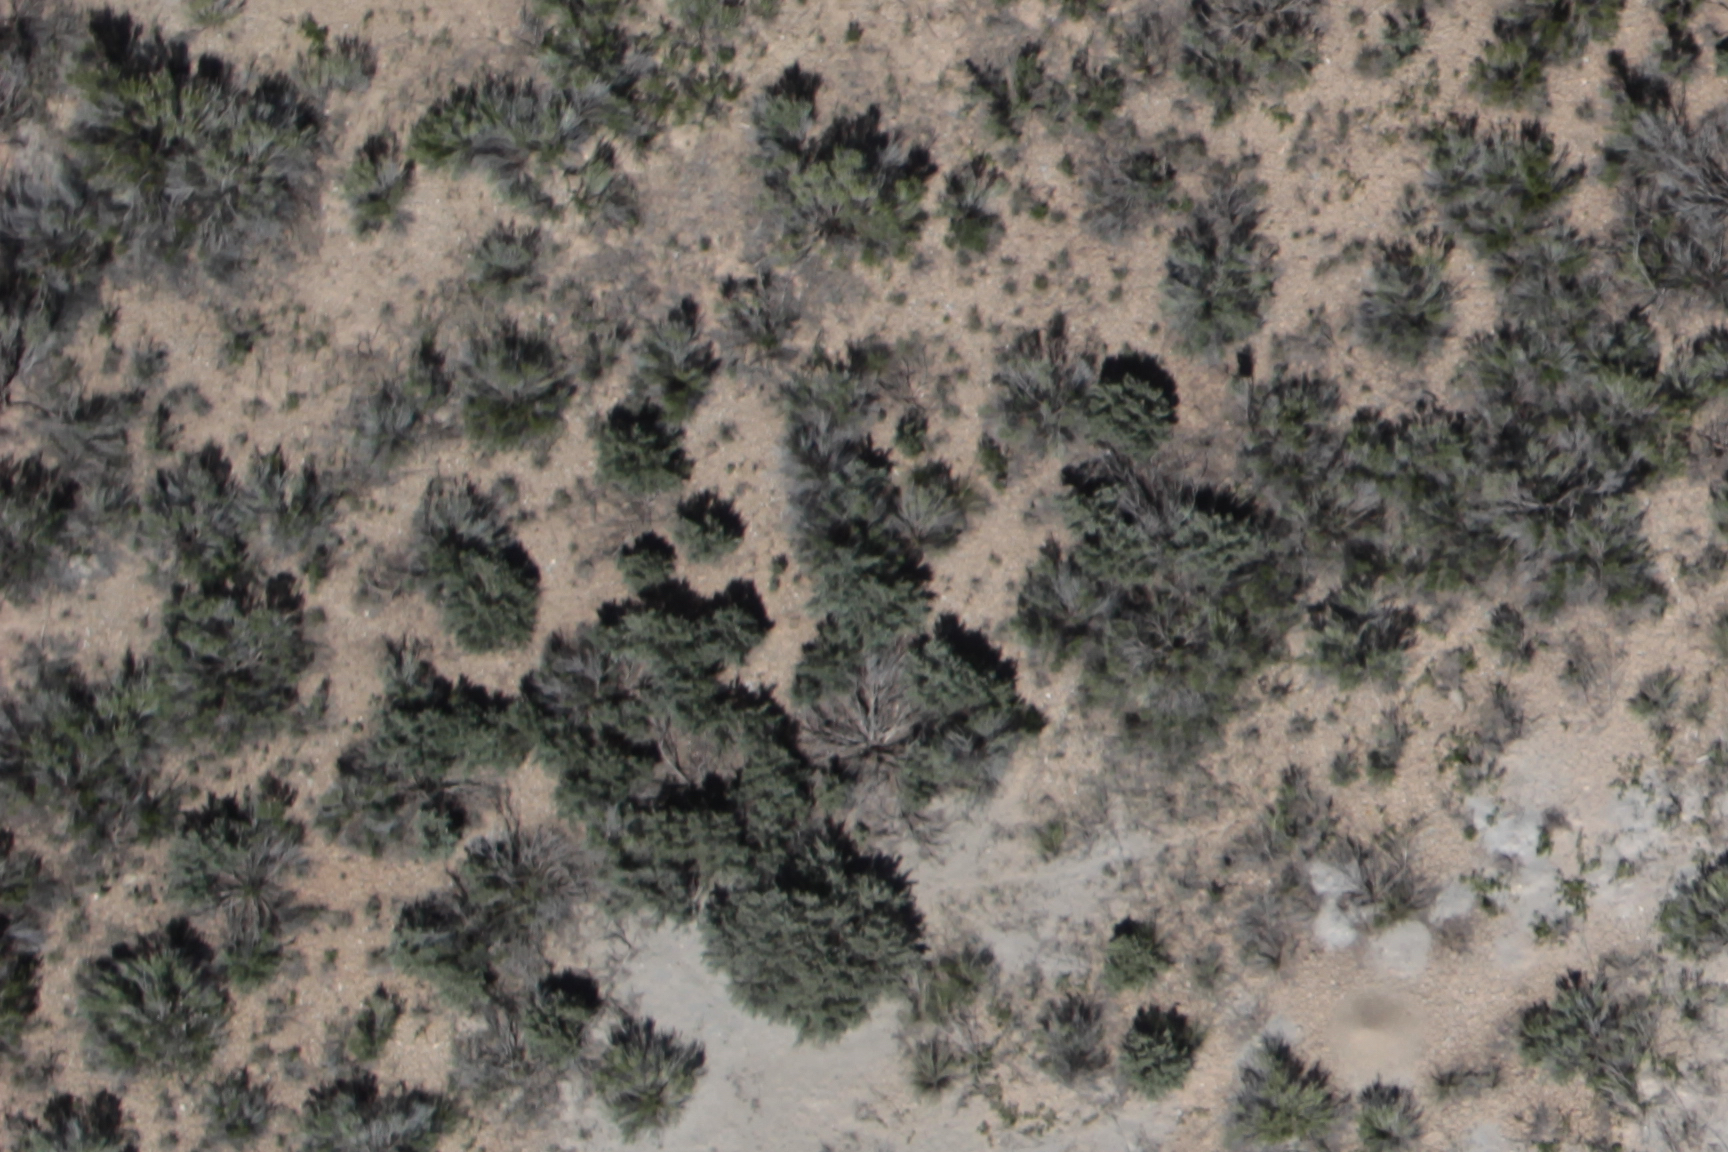burrow: (1317, 984, 1426, 1085)
